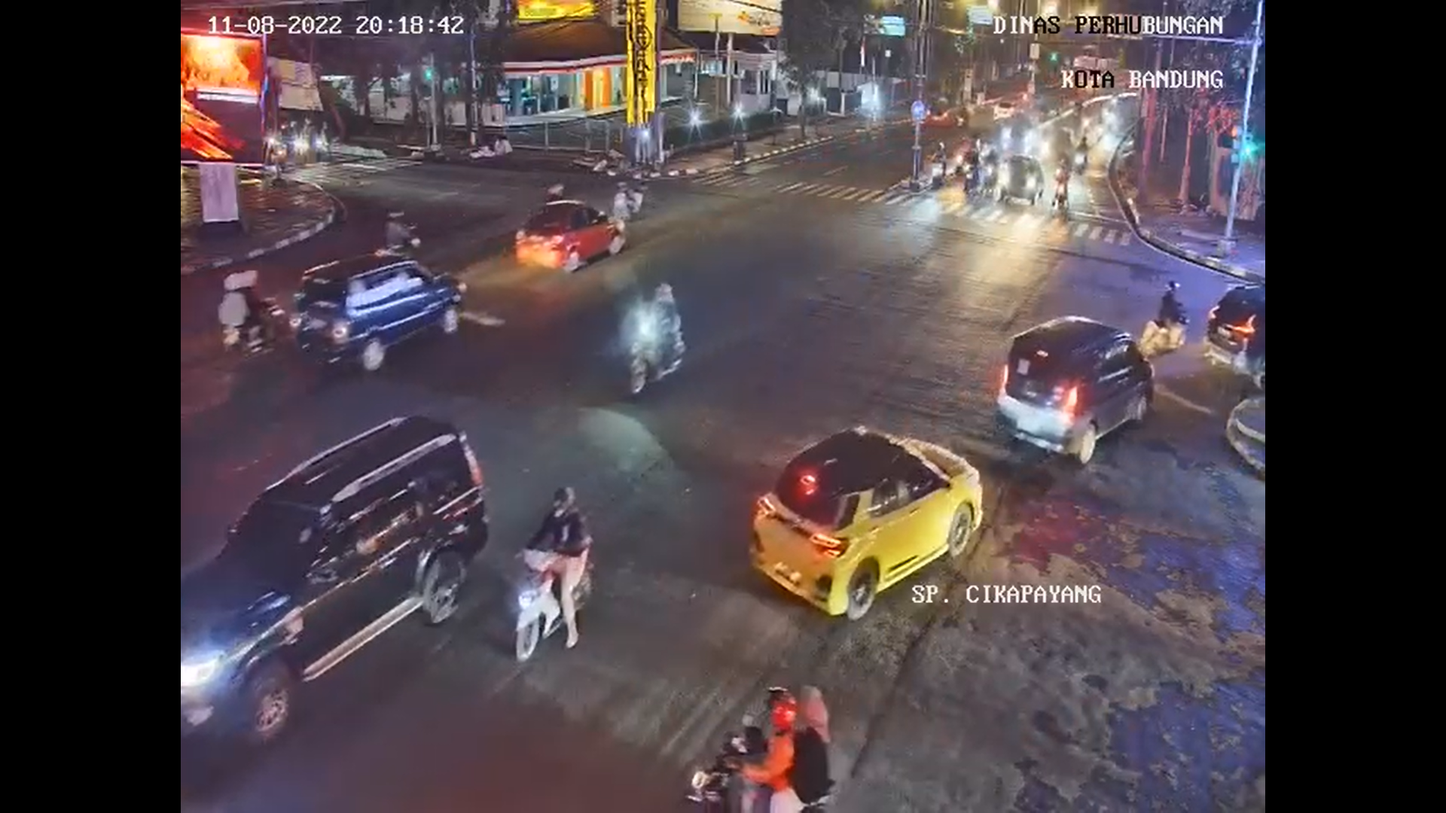with_helmet: (500, 474, 604, 674), (1134, 272, 1204, 361), (372, 198, 425, 266)
without_helmet: (681, 671, 847, 813), (609, 273, 699, 402)
